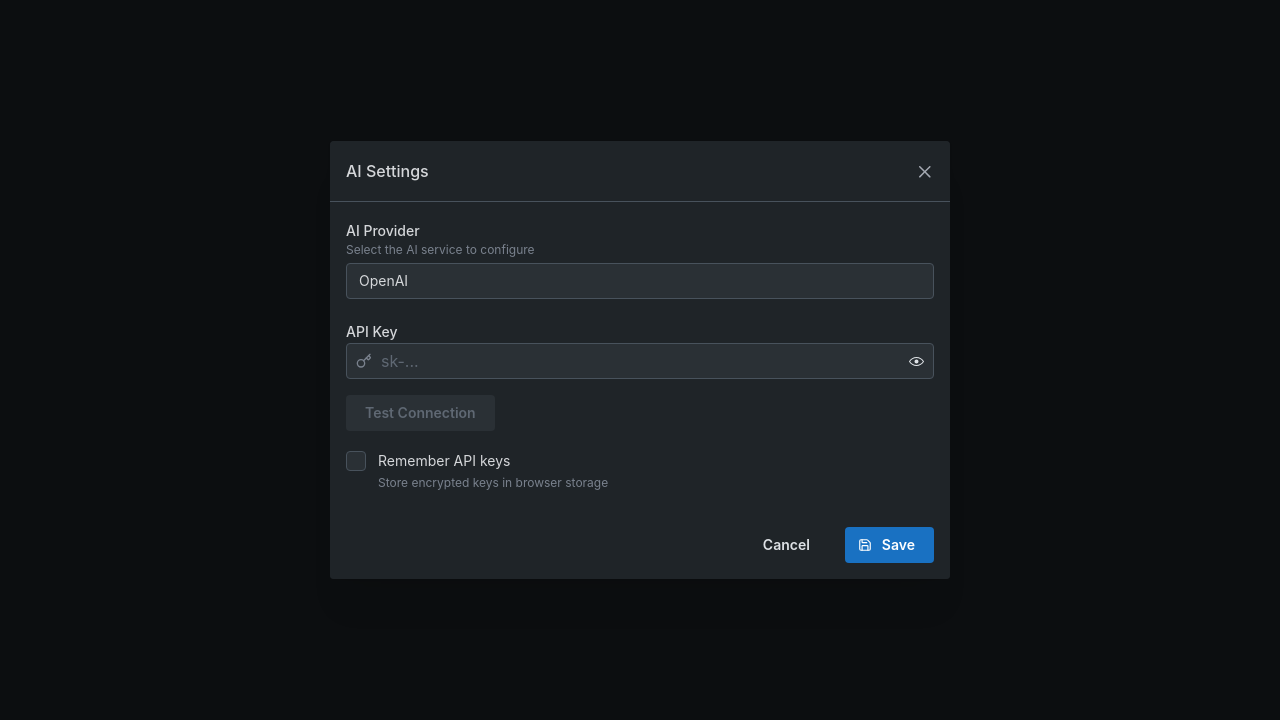
Test: AiSettingsModal › API key input › enables Test Connection when key is entered
Type "sk-test-key-12345678901234567890" into the password field labelled "API Key".
click(640, 361); type("sk-test-key-12345678901234567890")  # box [347,344,933,378]
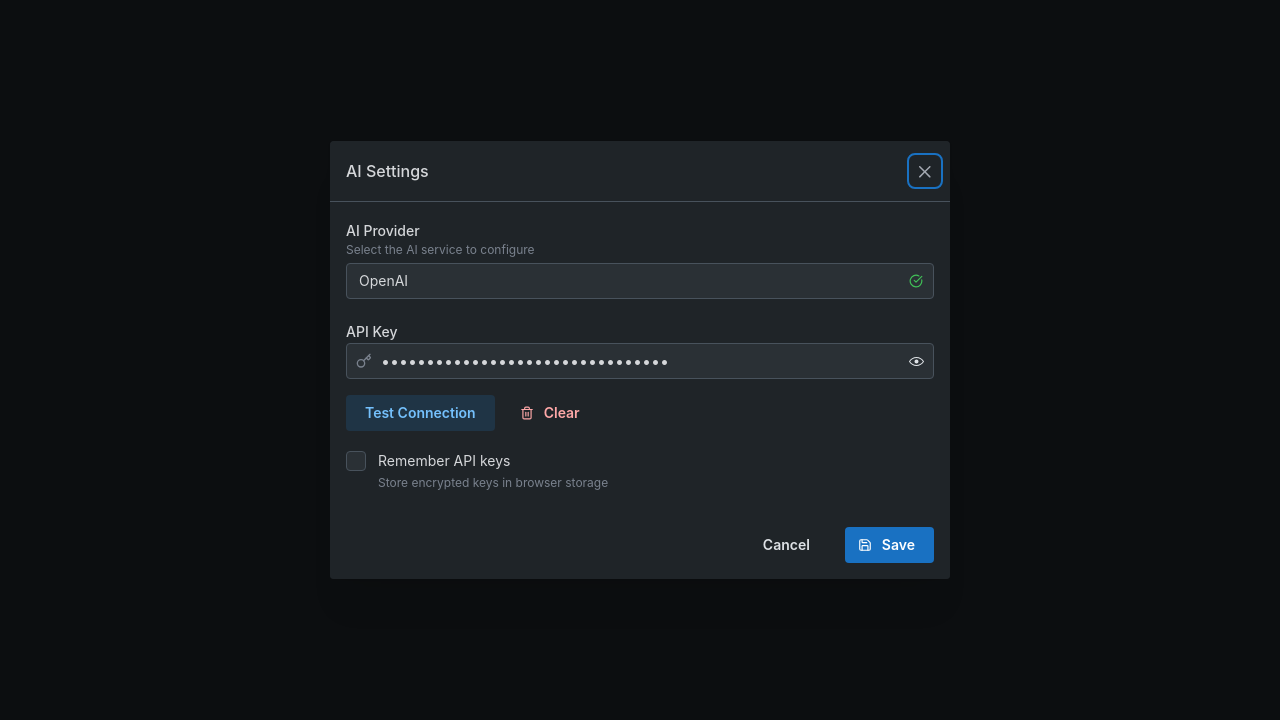
Expected: the button "Test Connection" is enabled, [346,395,495,431]
